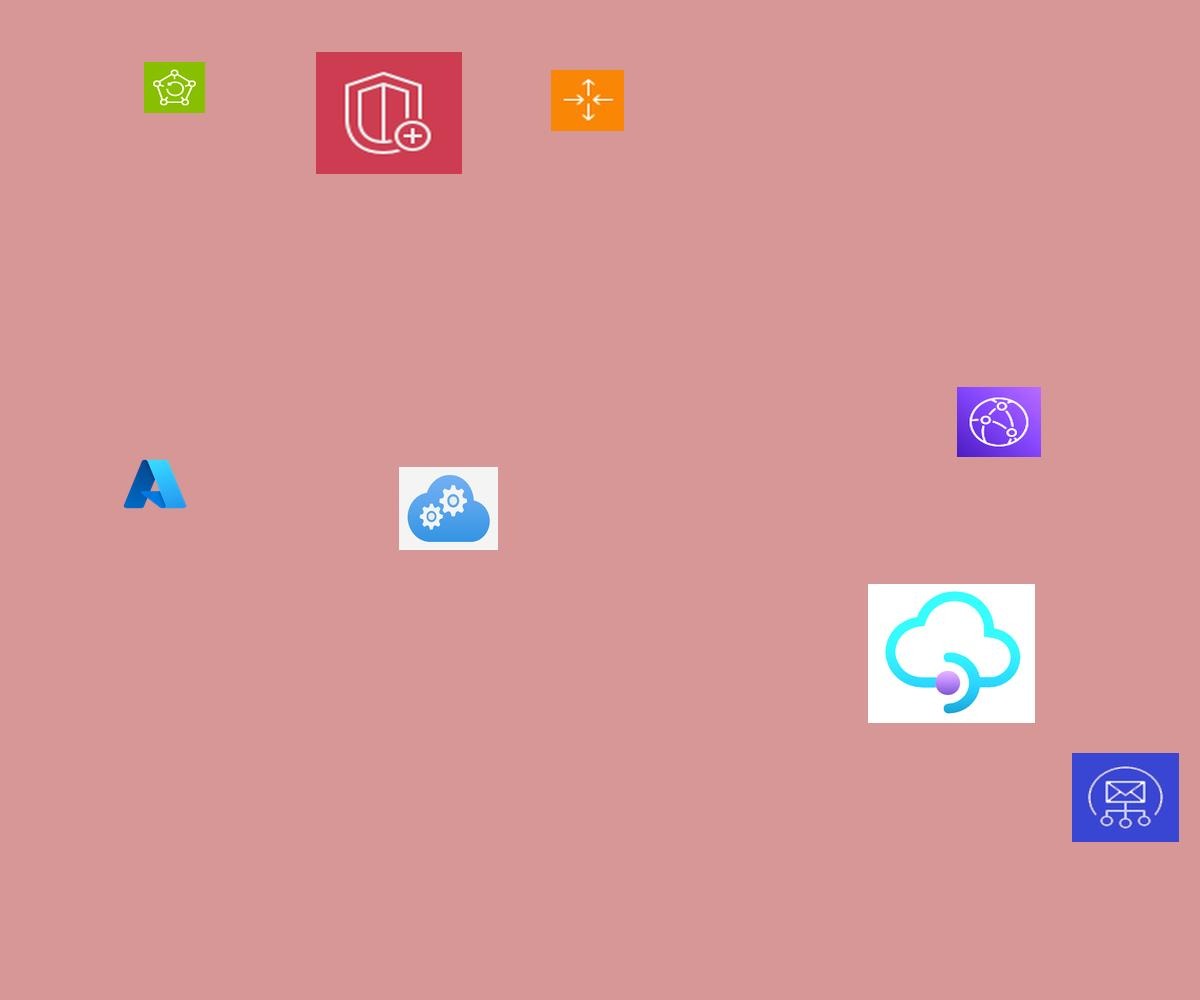AWS-Backup: (144, 62, 205, 113)
AWS-CloudFront: (957, 387, 1041, 457)
AWS-Scaling-group: (551, 70, 624, 131)
AWS-Shield: (316, 52, 462, 174)
AWS-Simple-Email-Service: (1072, 753, 1179, 842)
Azure_api_gateway: (868, 584, 1035, 723)
Azure_cloud_services: (399, 467, 498, 550)
Azure_services: (121, 456, 189, 512)
